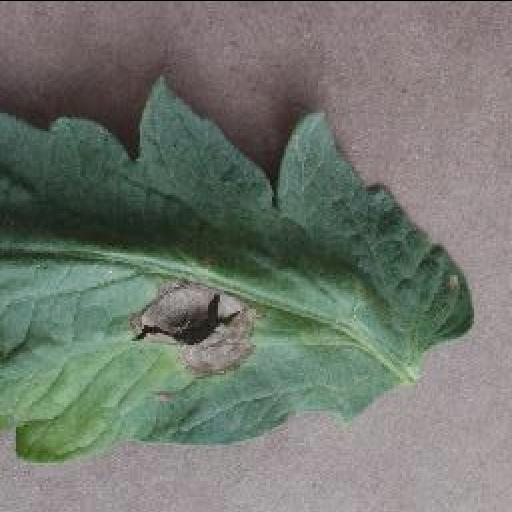disease_tomato: (0, 70, 472, 474)
